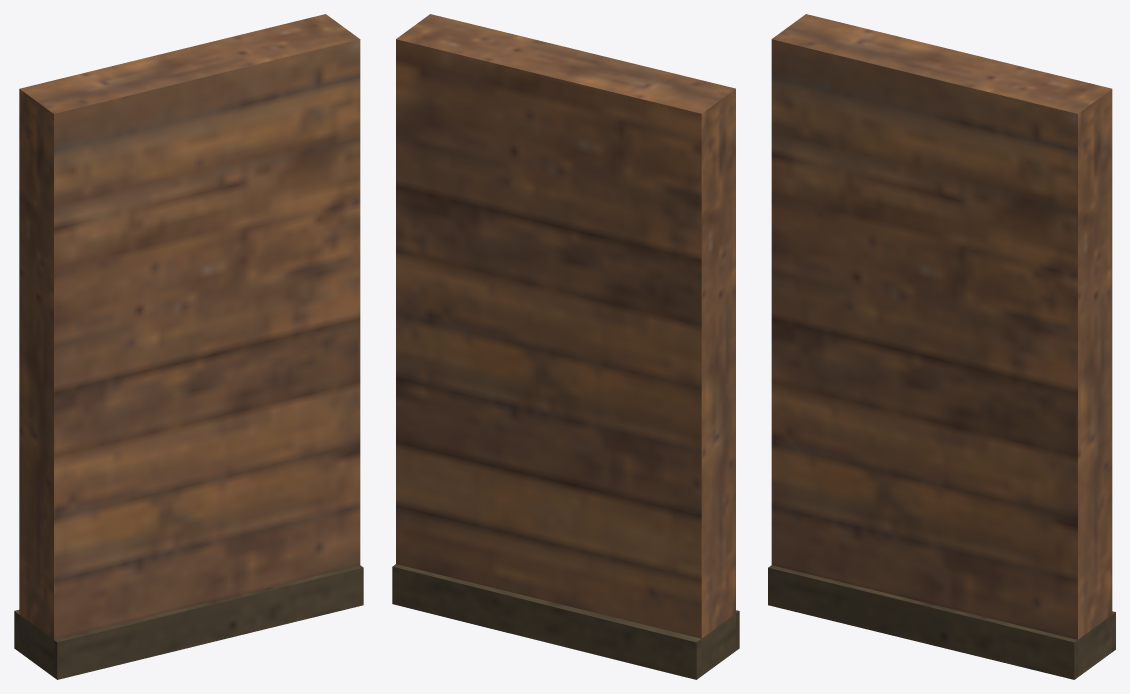
File: MS_WallDoor.fbx
3 renders of one model, left to right at view 1: azimuth 30°, elevation 25°; view 2: azimuth 150°, elevation 25°; view 3: azimuth 330°, elevation 25°, orthographic.
Visible parts, largest first — view 1: Cube; view 2: Cube; view 3: Cube.
Part boxes in pixels (x1=…): Cube: x1=14, y1=14, x2=363, y2=679; Cube: x1=392, y1=14, x2=739, y2=679; Cube: x1=768, y1=14, x2=1115, y2=679.
Size of the model in its own units: 256 by 450 by 62.5.
